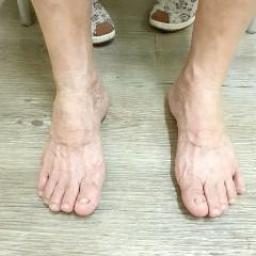Dorsal View -Both Feet-: (24, 50, 252, 239)
